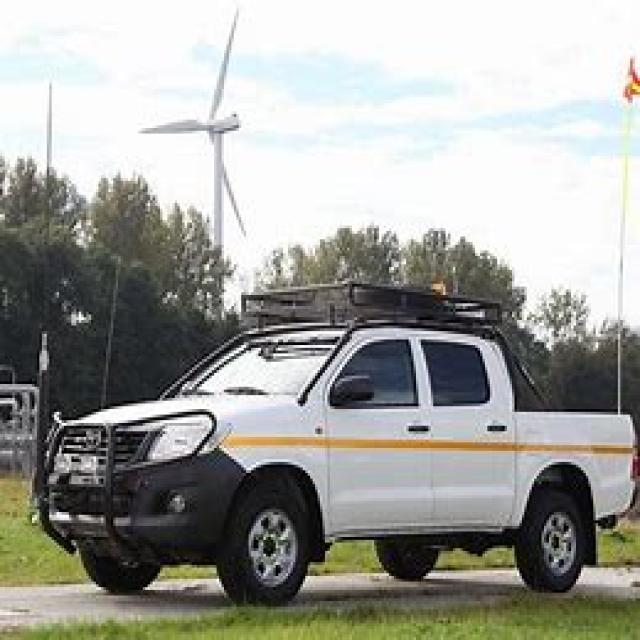light_vehicle: (32, 262, 638, 601)
